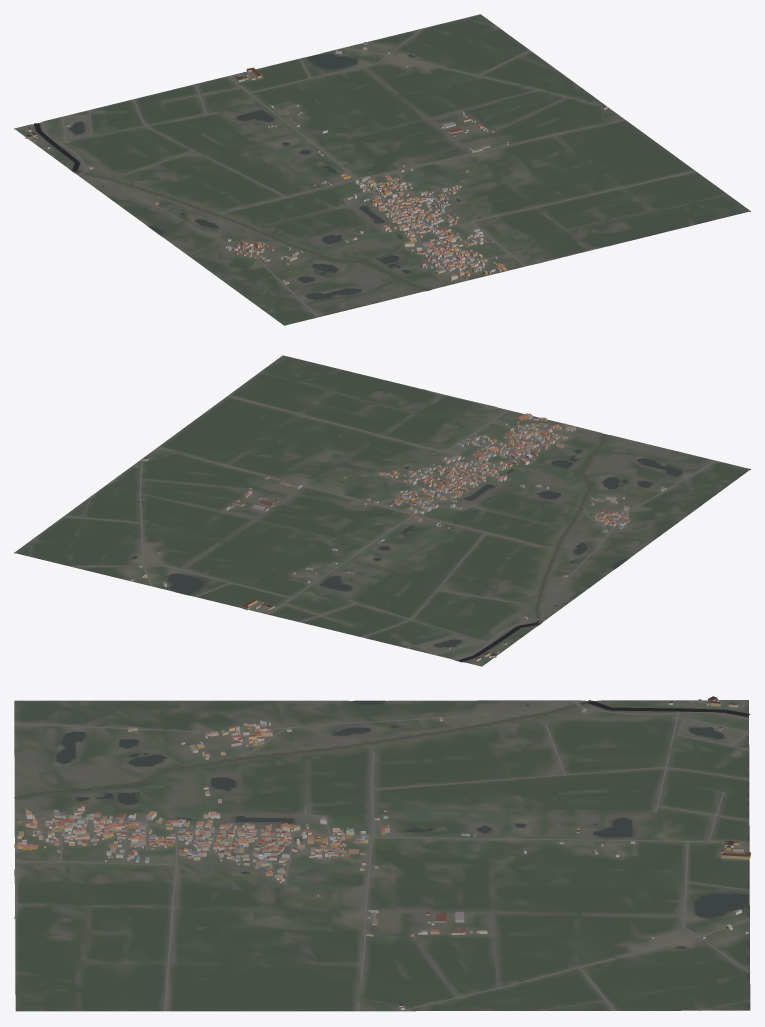
3 views of the same model, one above another, from view 1: azimuth 30°, elevation 25°; view 2: azimuth 150°, elevation 25°; view 3: azimuth 270°, elevation 25° (orthographic). The views are drawn at different scales.
Visible parts, largest first — view 1: ground, buildings, roads, water; view 2: ground, buildings, roads, water; view 3: ground, buildings, roads, water.
Boxes of the visible parts, box(x1,y1,x2,y2) form: ground: box(14, 14, 750, 325); buildings: box(25, 42, 607, 284); roads: box(42, 18, 695, 317); water: box(34, 53, 460, 299); ground: box(14, 355, 750, 666); buildings: box(130, 413, 666, 661); roads: box(29, 389, 716, 659); water: box(132, 434, 682, 662); ground: box(14, 700, 750, 1011); buildings: box(14, 696, 750, 1010); roads: box(14, 700, 750, 1011); water: box(14, 700, 749, 948).
Bounding box in the file's own units: 1410 × 15.61 × 1406.
